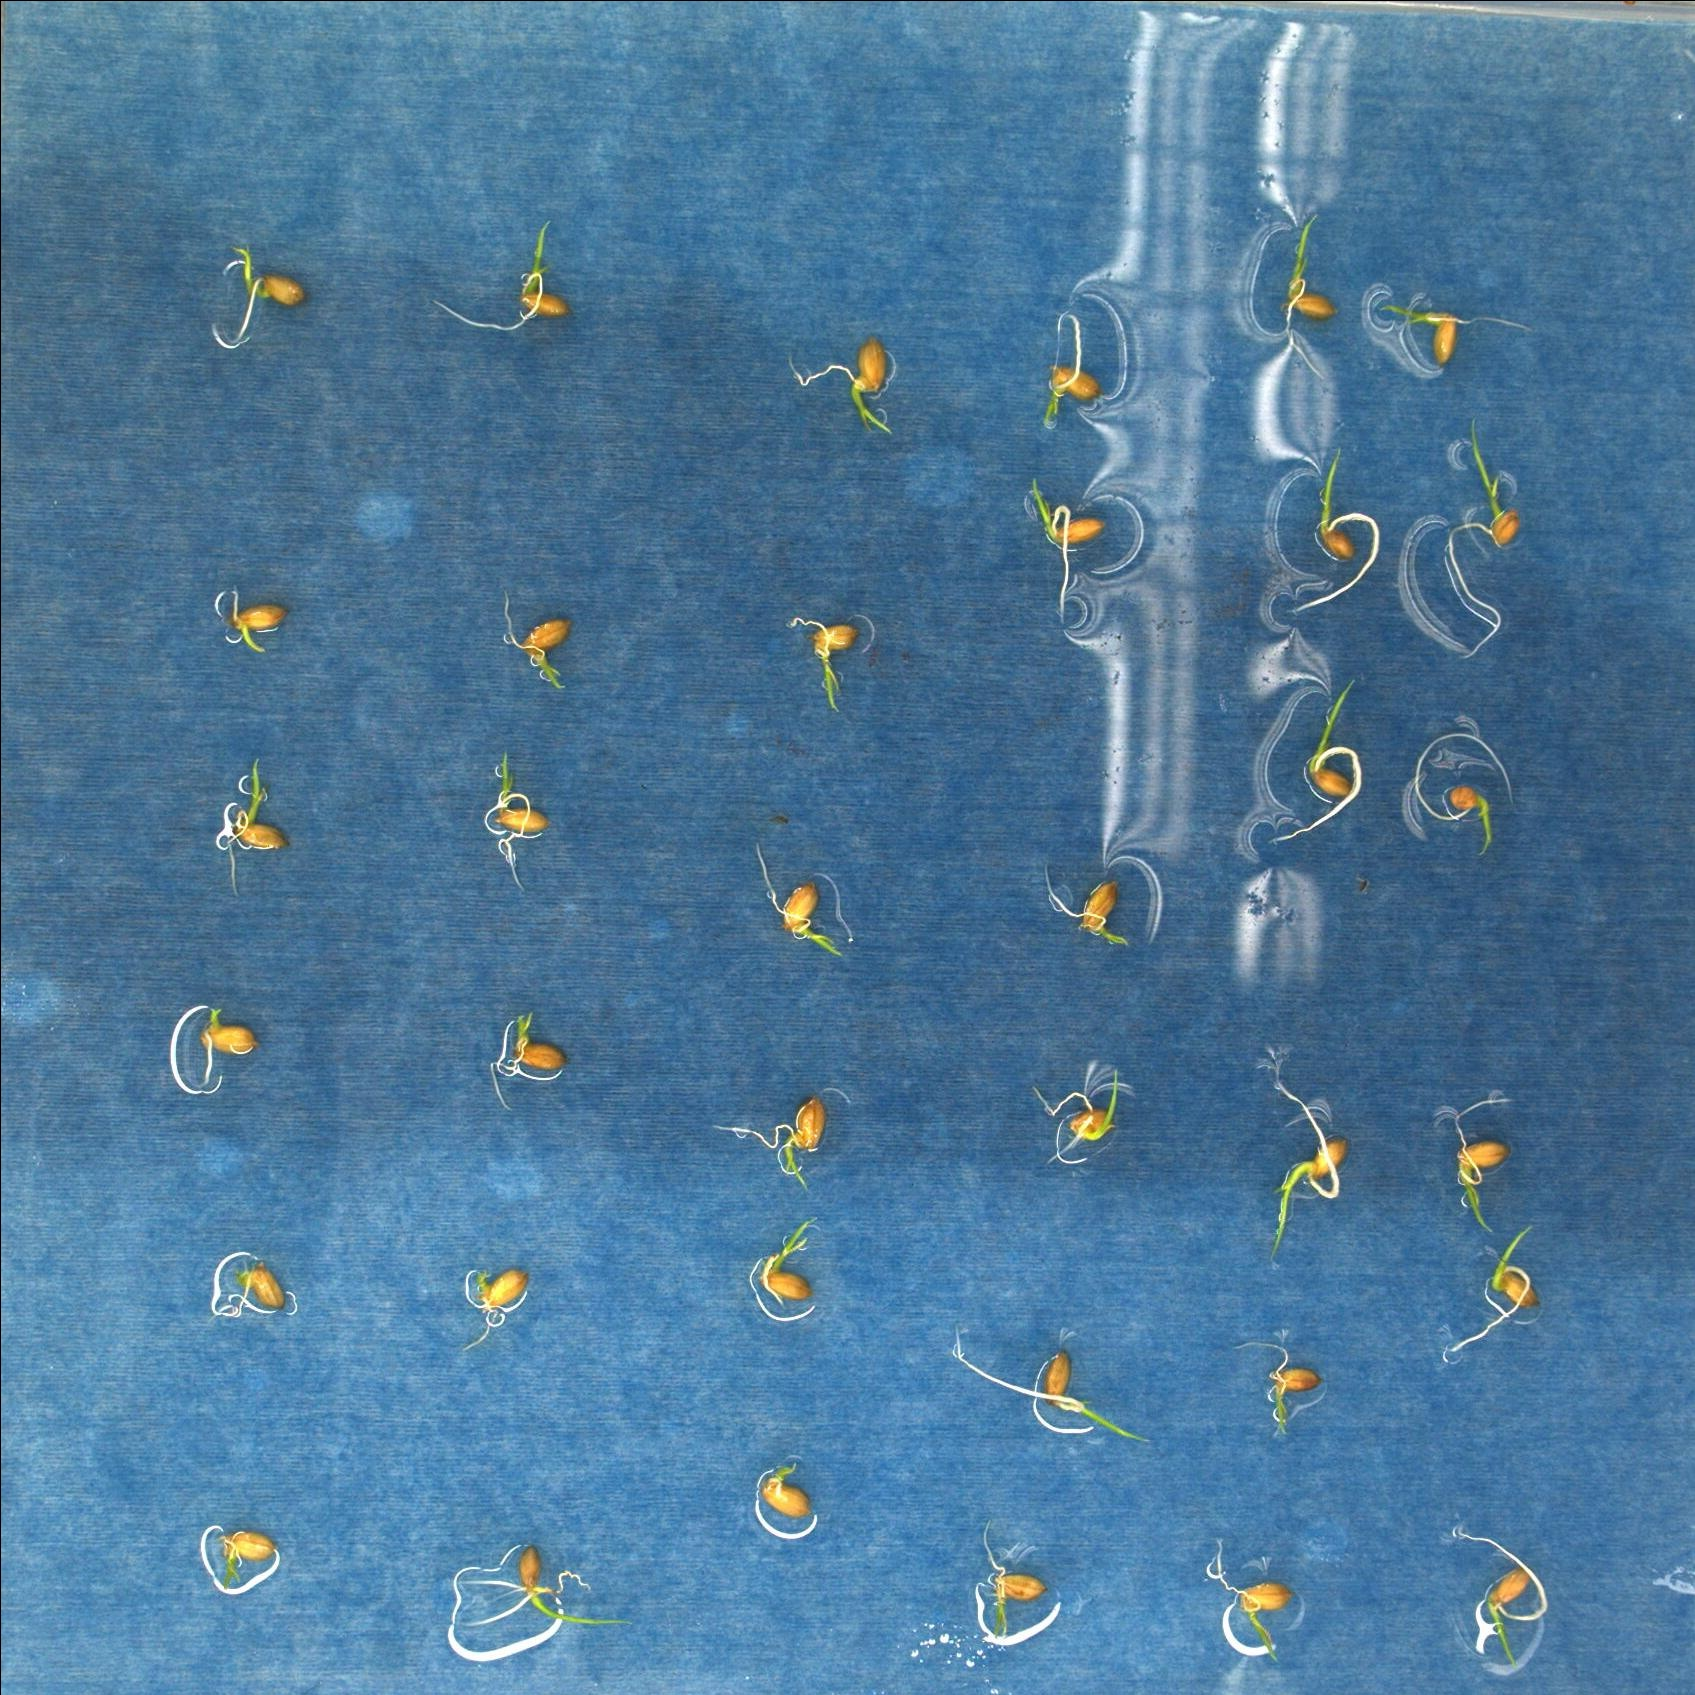not sprout: (979, 1516, 1048, 1641), (461, 1270, 536, 1350), (762, 1461, 813, 1518)
sprout: (948, 1347, 1159, 1444), (1447, 411, 1520, 660), (1267, 672, 1360, 841), (430, 217, 567, 332), (1287, 445, 1380, 612), (456, 1544, 636, 1627), (1451, 1526, 1548, 1670), (1271, 1071, 1346, 1254), (1416, 733, 1515, 857), (1447, 1220, 1538, 1350), (1029, 477, 1108, 624), (789, 331, 899, 435), (714, 1094, 823, 1192), (1214, 1538, 1293, 1666), (1285, 210, 1340, 383), (761, 847, 846, 958), (1232, 1343, 1322, 1447), (227, 754, 292, 897), (1375, 307, 1532, 365), (1031, 1069, 1125, 1163), (230, 237, 310, 343), (495, 745, 553, 893), (490, 1010, 573, 1111), (1456, 1094, 1513, 1239), (1045, 861, 1135, 951), (497, 591, 573, 688), (1040, 312, 1101, 430), (787, 616, 855, 714), (200, 1003, 265, 1088), (757, 1218, 818, 1305), (225, 1254, 292, 1315), (228, 587, 287, 653), (214, 1527, 272, 1589)
